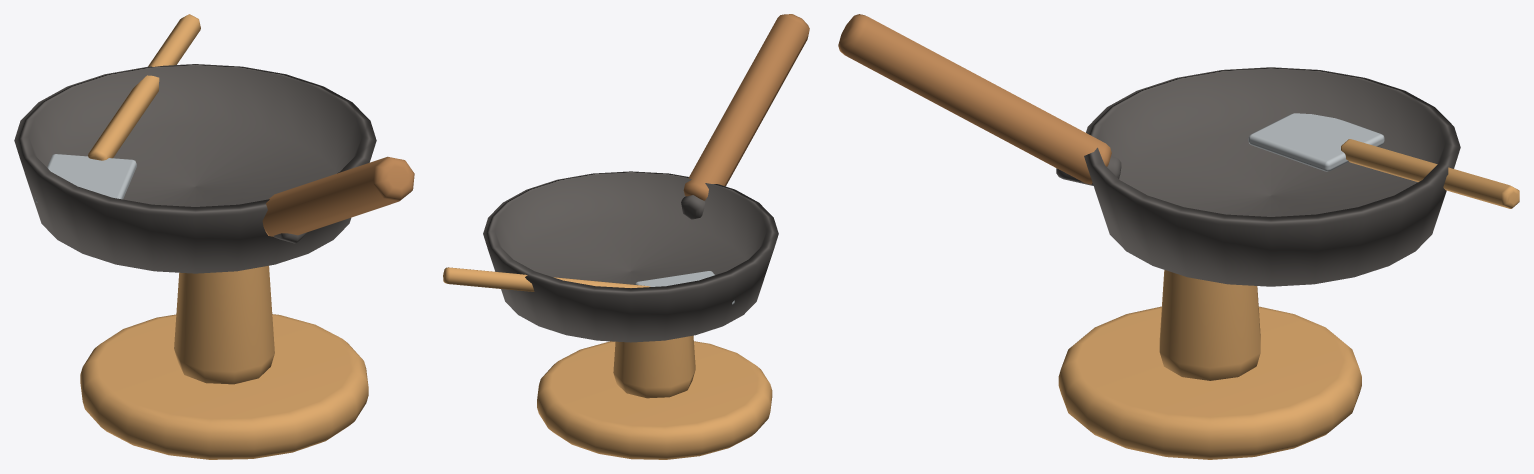
File: kitchen_pan_set.glb
3 views of the same model, side by side, from view 1: azimuth 30°, elevation 25°; view 2: azimuth 150°, elevation 25°; view 3: azimuth 270°, elevation 25° (orthographic). The views are drawn at different scales.
Visible parts, largest first — view 1: kitchen_pan_set_mesh; view 2: kitchen_pan_set_mesh; view 3: kitchen_pan_set_mesh.
Part boxes in pixels (x1=…): kitchen_pan_set_mesh: x1=14, y1=14, x2=414, y2=459; kitchen_pan_set_mesh: x1=443, y1=14, x2=809, y2=459; kitchen_pan_set_mesh: x1=838, y1=14, x2=1519, y2=459.
Size of the model in its own units: 0.25 by 0.2808 by 0.4491.
